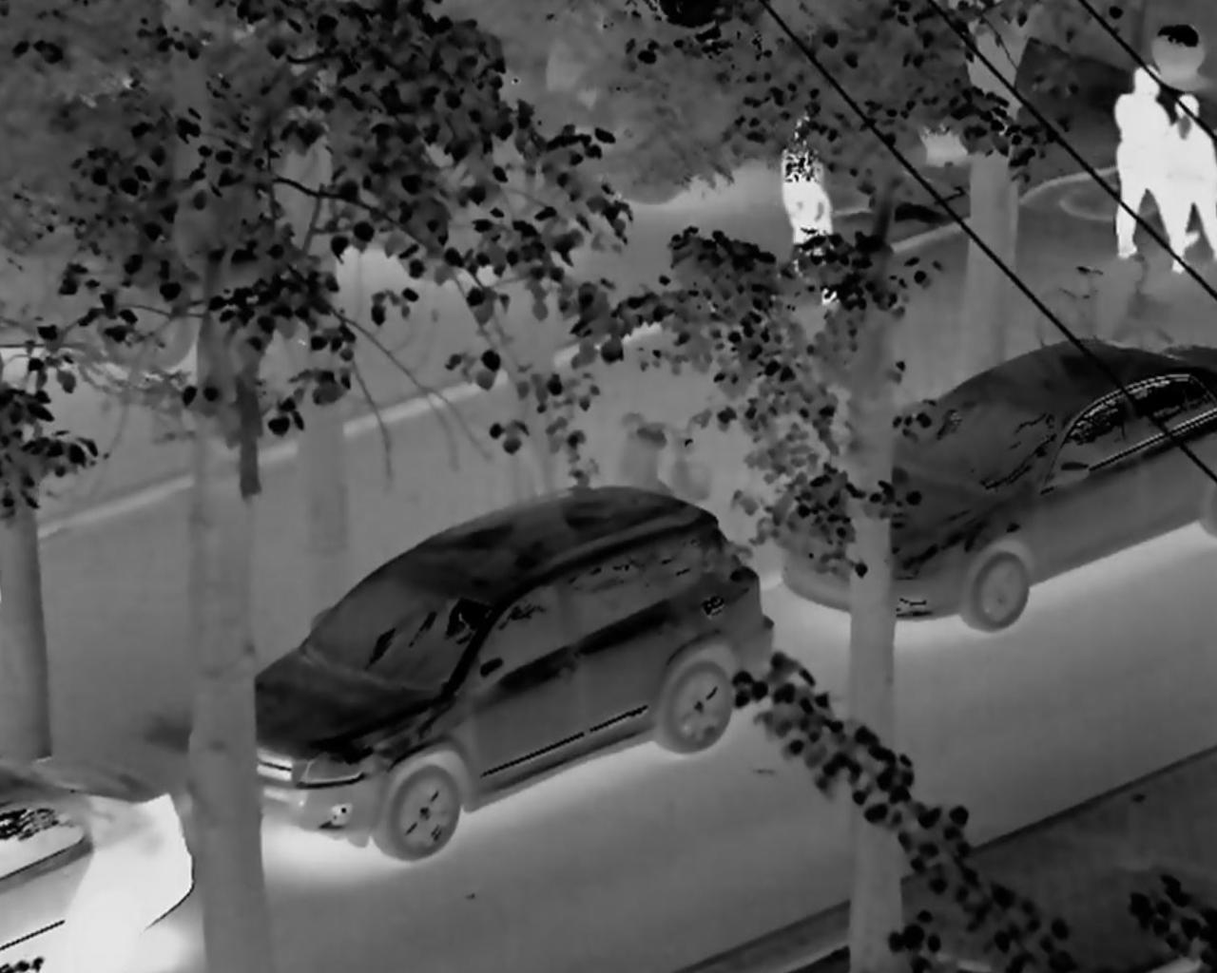person: (1102, 40, 1170, 276), (769, 87, 840, 287), (1164, 85, 1217, 291)
